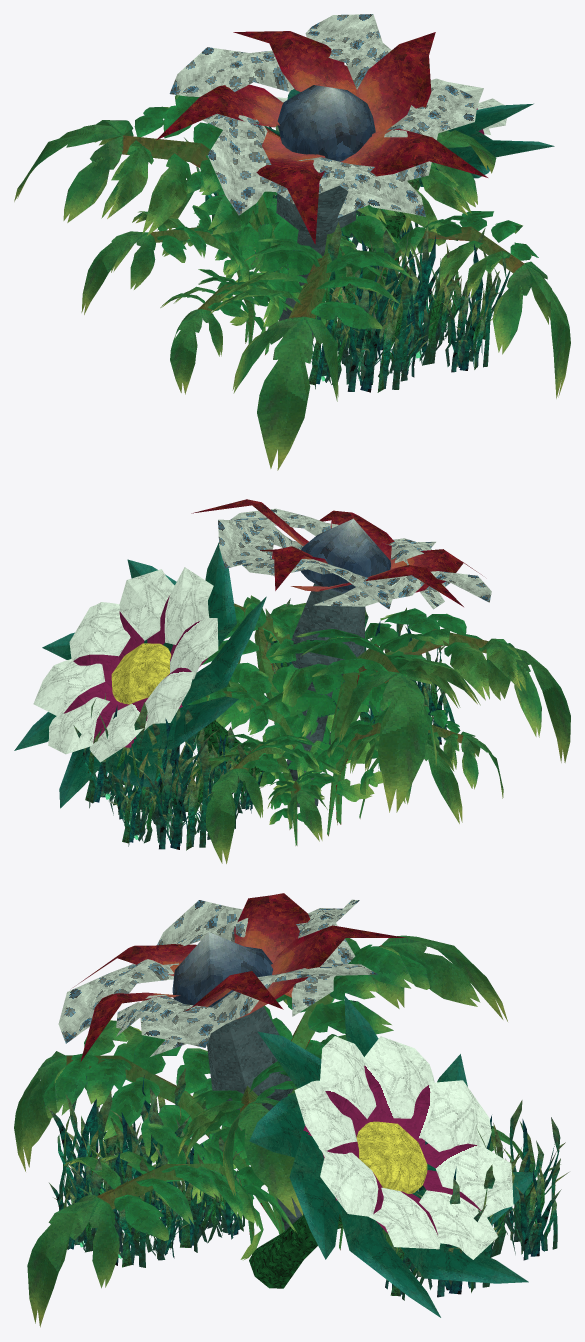
The model's file is prefab_15.glb.
The picture shows the model from 3 angles, top to bottom: view 1: azimuth 30°, elevation 25°; view 2: azimuth 150°, elevation 25°; view 3: azimuth 270°, elevation 25°; orthographic projection. The views are drawn at different scales.
Parts seen in each view (by area): view 1: PRFB_15; view 2: PRFB_15; view 3: PRFB_15.
Part boxes in pixels (bbox=[...]): PRFB_15: bbox=[14, 14, 570, 470]; PRFB_15: bbox=[14, 499, 570, 863]; PRFB_15: bbox=[14, 893, 568, 1327].
Size of the model in its own units: 3.93 by 2.46 by 3.73.
3 materials, 3 textured.
